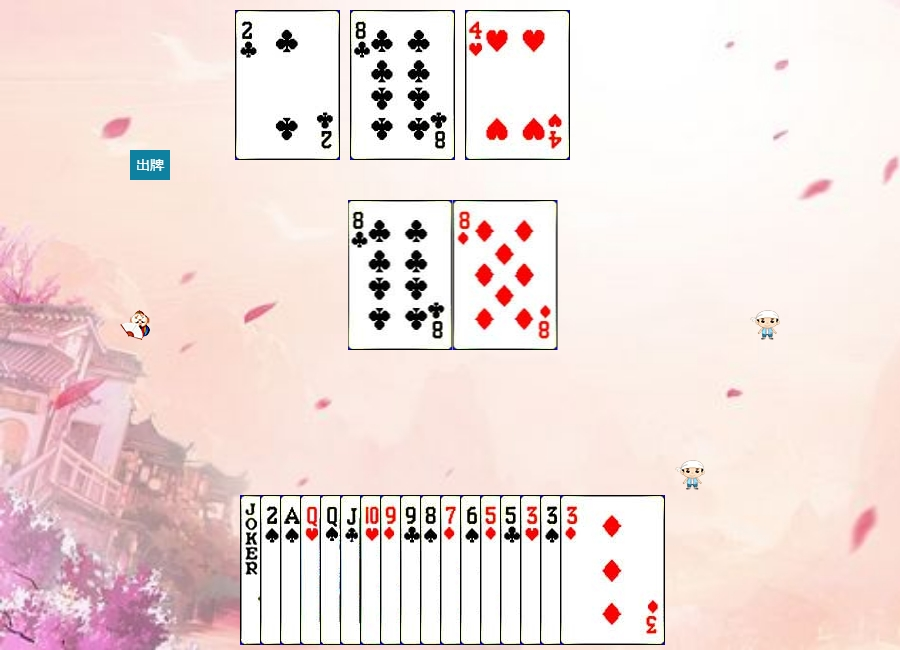10~3: (360, 495, 465, 645)
11~2: (340, 495, 445, 645)
12~3: (300, 495, 405, 645)
12~4: (320, 495, 425, 645)
14~4: (280, 495, 385, 645)
15~2: (235, 10, 340, 160)
15~4: (260, 495, 365, 645)
17~3: (240, 495, 345, 645)
3~1: (560, 495, 665, 645)
3~3: (520, 495, 625, 645)
3~4: (540, 495, 645, 645)
4~3: (465, 10, 570, 160)
5~1: (480, 495, 585, 645)
5~2: (500, 495, 605, 645)
6~4: (460, 495, 565, 645)
7~1: (440, 495, 545, 645)
8~1: (453, 200, 558, 350)
8~2: (350, 10, 455, 160), (348, 200, 453, 350)
8~4: (420, 495, 525, 645)
9~1: (380, 495, 485, 645)
9~2: (400, 495, 505, 645)
